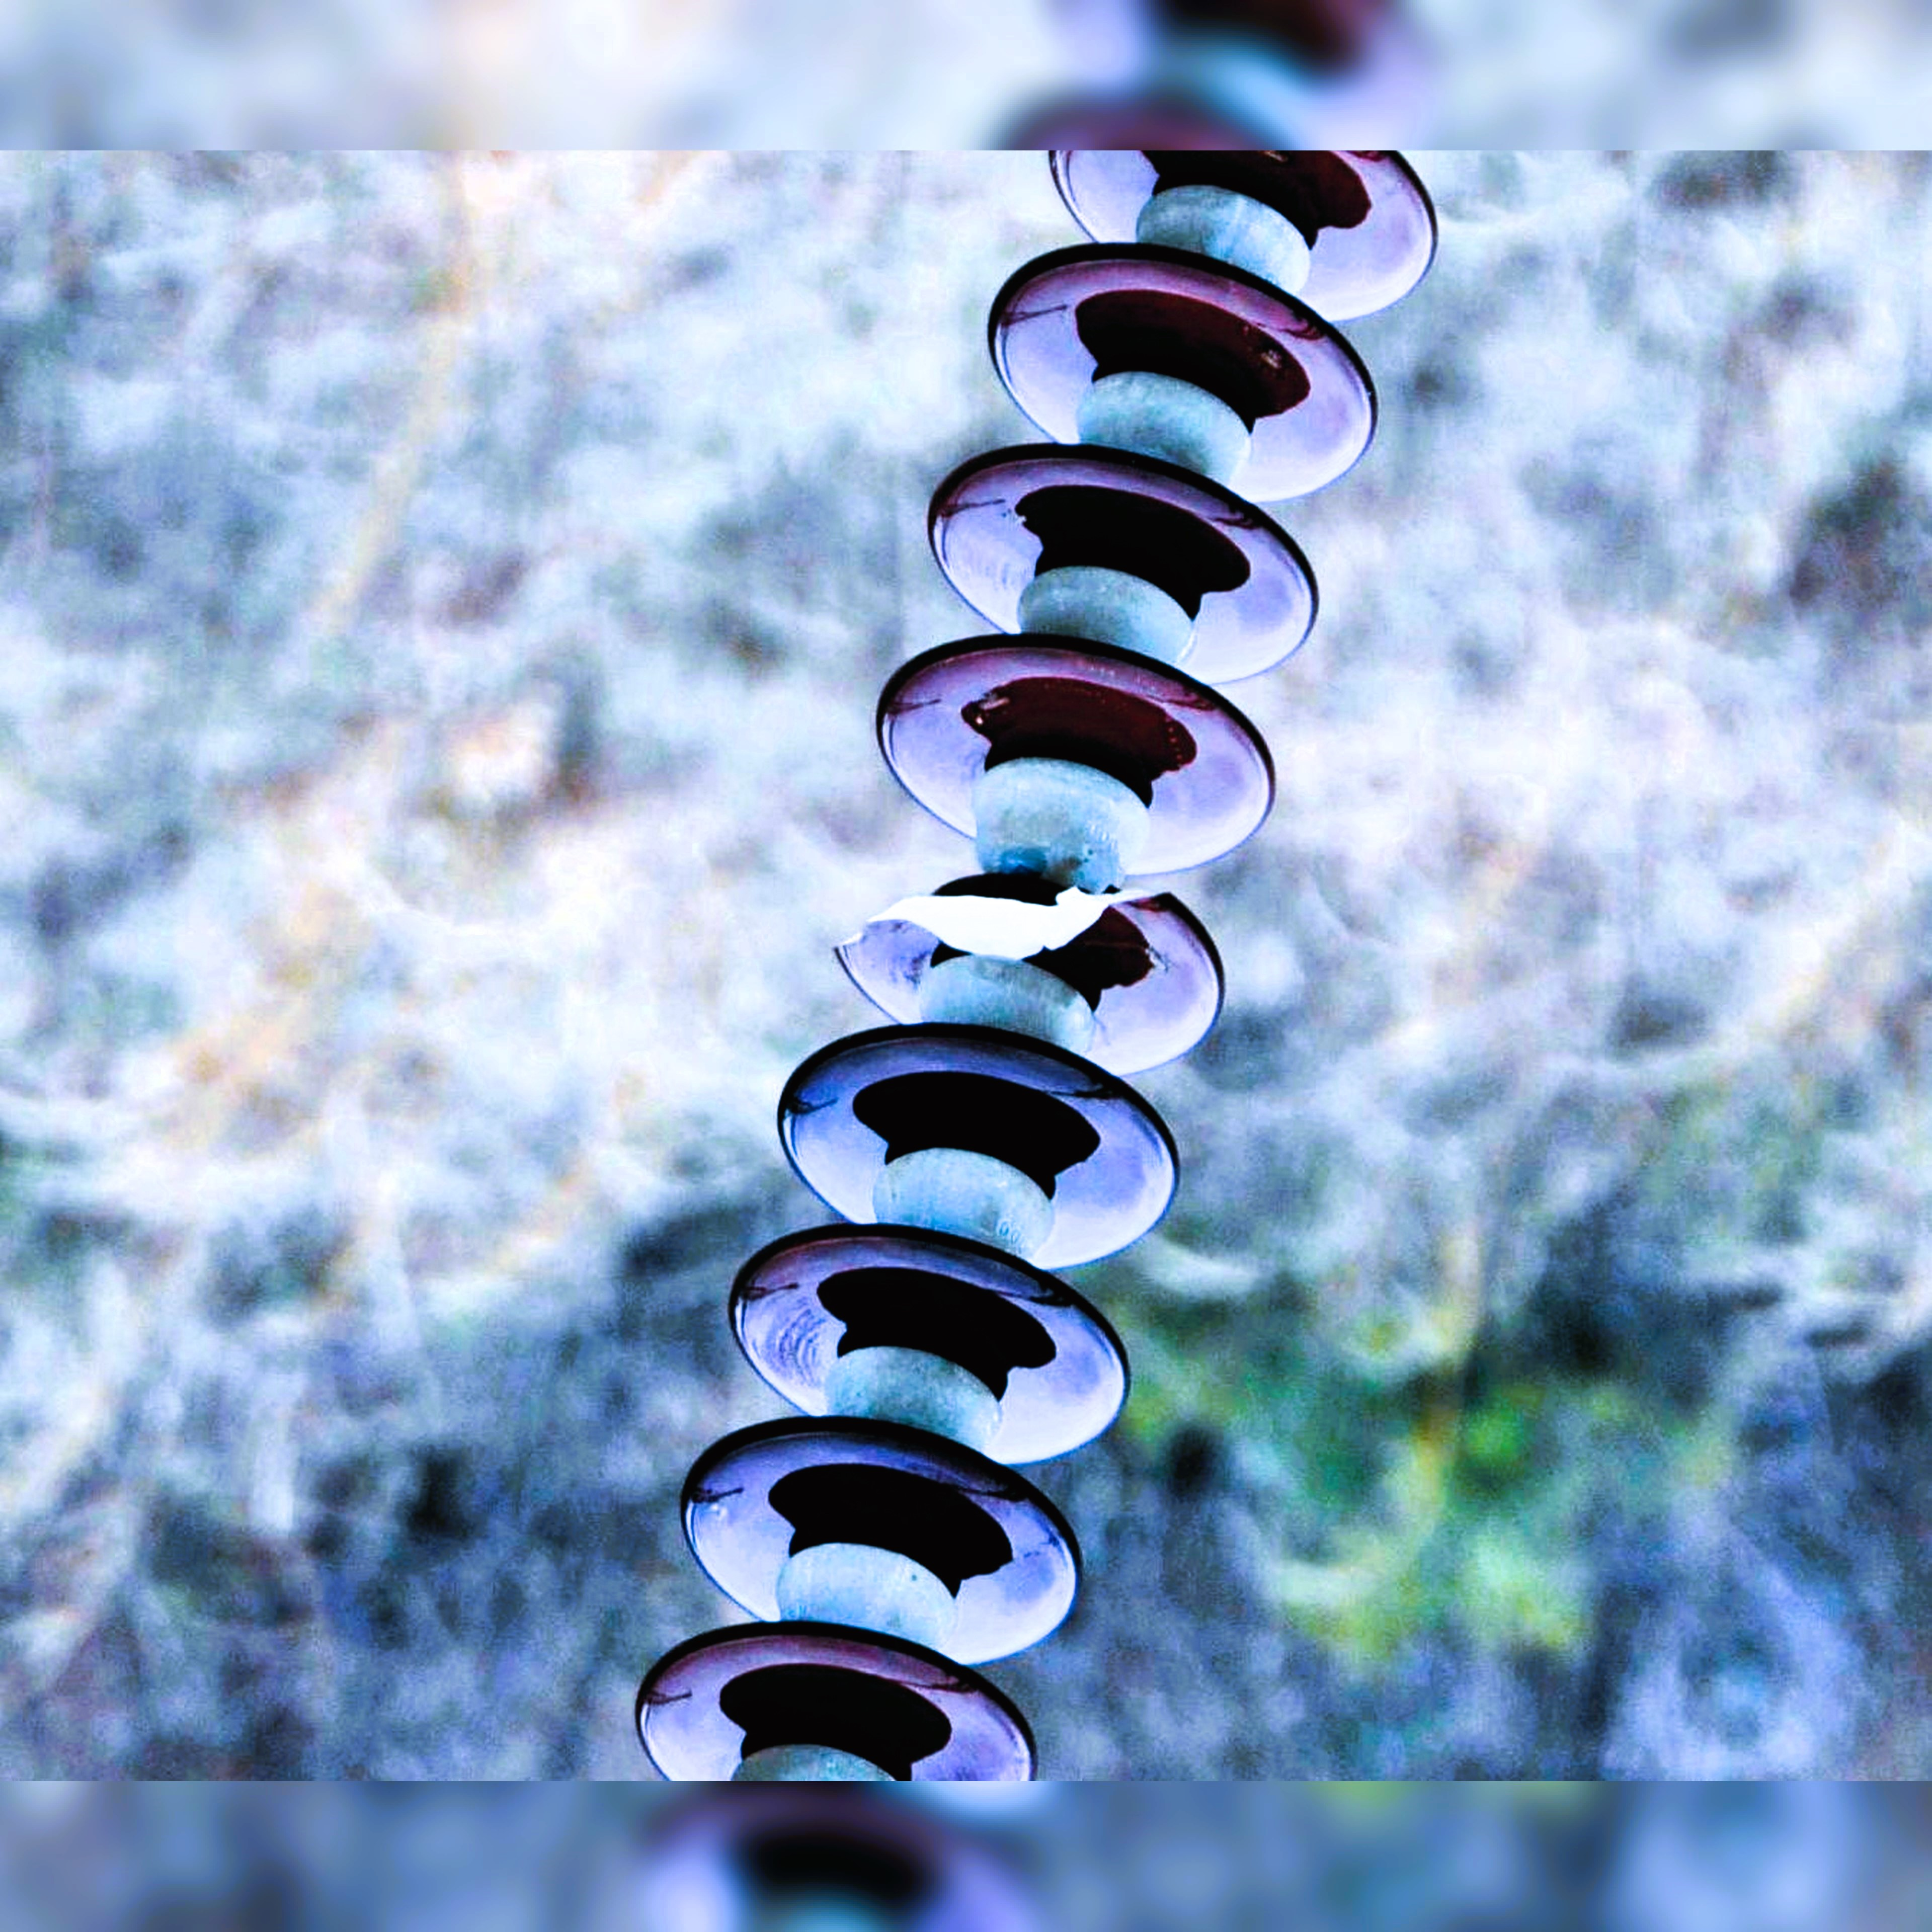insulator breakage: (798, 862, 1235, 1065)
